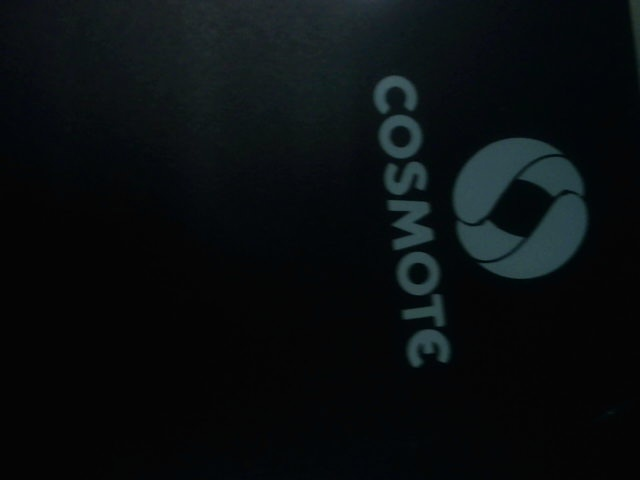AU_COSMOTE: (369, 70, 597, 384)
